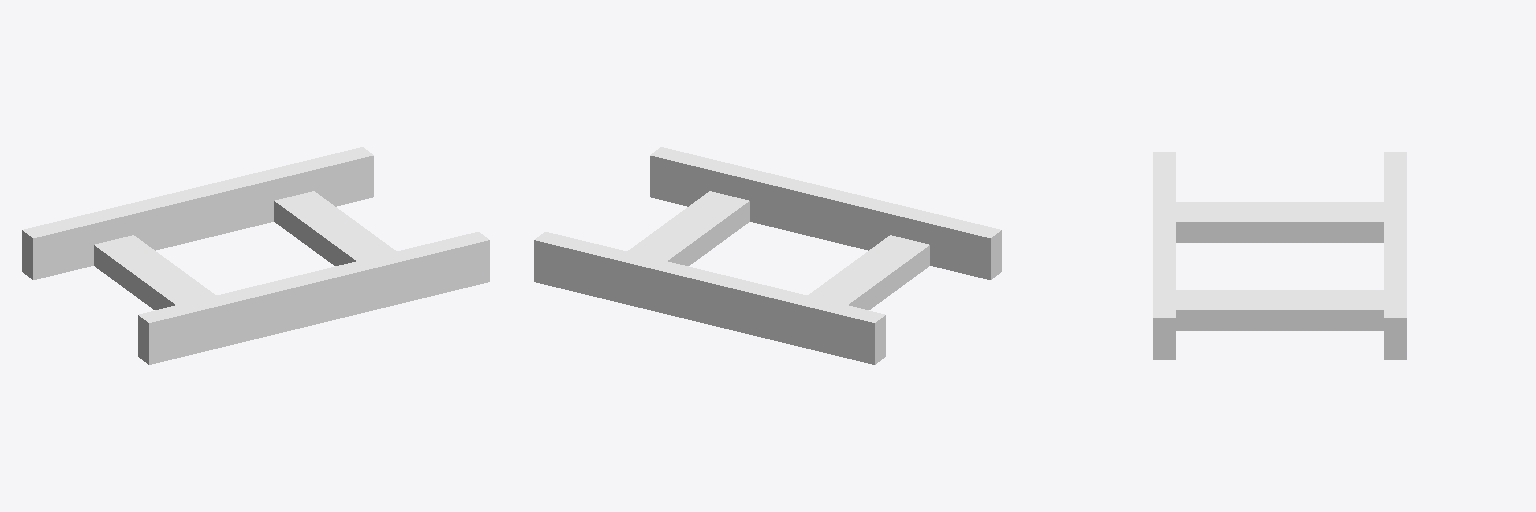
The model's file is track.obj.
3 views of the same model, side by side, from view 1: azimuth 30°, elevation 25°; view 2: azimuth 150°, elevation 25°; view 3: azimuth 270°, elevation 25° (orthographic).
Parts seen in each view (by area): view 1: track; view 2: track; view 3: track.
Boxes of the visible parts, box(x1,y1,x2,y2) form: track: box(22, 147, 489, 364); track: box(534, 147, 1001, 364); track: box(1153, 152, 1406, 359).
Size of the model in its own units: 17 by 2 by 11.